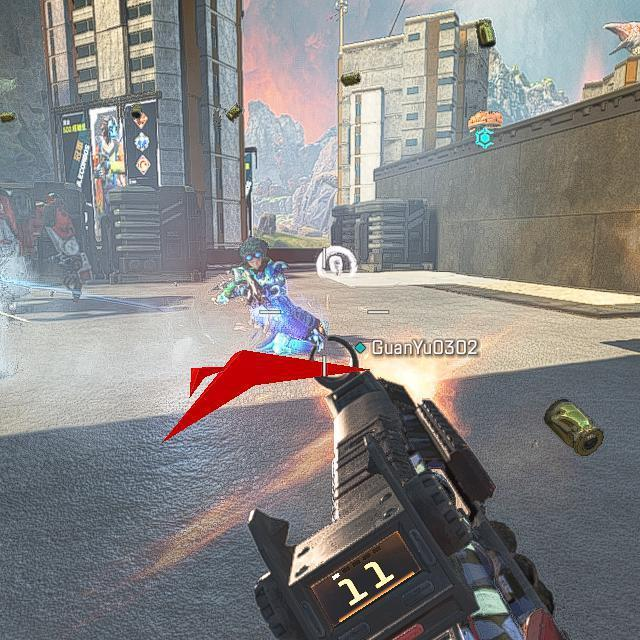avatar: (213, 236, 326, 356)
